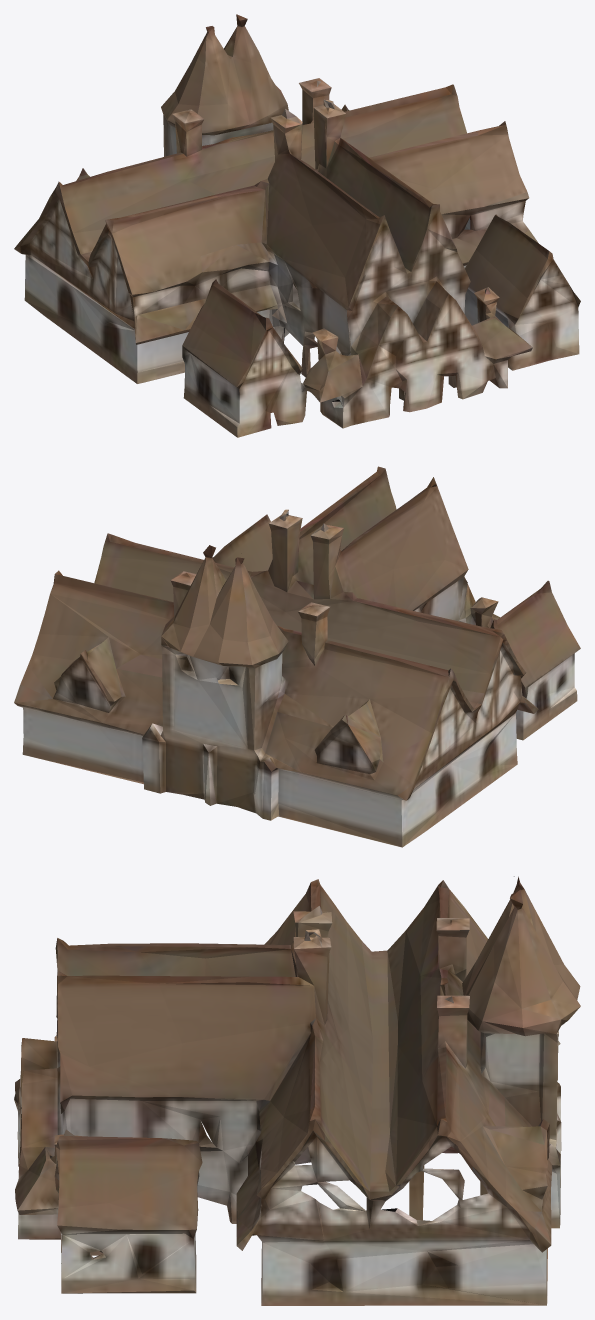
File: village_block_c_lod1.glb
3 views of the same model, one above another, from view 1: azimuth 30°, elevation 25°; view 2: azimuth 150°, elevation 25°; view 3: azimuth 270°, elevation 25° (orthographic). The views are drawn at different scales.
Visible parts, largest first — view 1: village_block_c_lod1; view 2: village_block_c_lod1; view 3: village_block_c_lod1.
Boxes of the visible parts, x1=… form: village_block_c_lod1: x1=14, y1=14, x2=580, y2=437; village_block_c_lod1: x1=14, y1=466, x2=580, y2=847; village_block_c_lod1: x1=14, y1=876, x2=580, y2=1305.
Bounding box in the file's own units: 19.87 × 11.48 × 19.21.
1 material, 1 textured.
